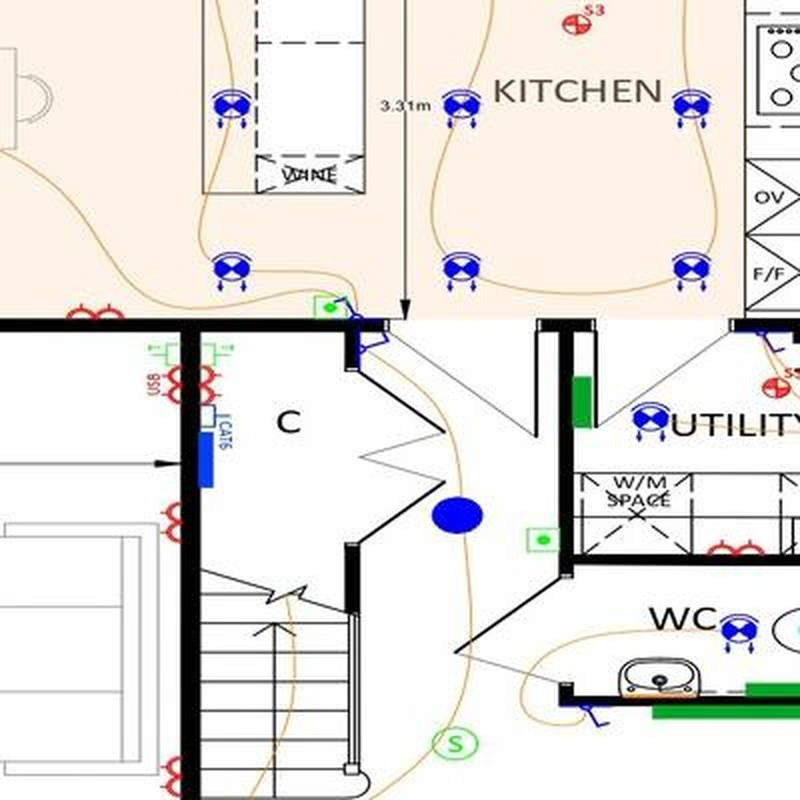Ceiling Mounted Continuous Extract FanWith Local Boost Switch: (561, 4, 604, 37), (761, 364, 800, 398)
Double Socket: (67, 302, 124, 319), (158, 756, 181, 798), (707, 539, 765, 555), (159, 503, 181, 544), (201, 366, 221, 406)
Light Switch: (578, 705, 611, 729), (755, 331, 787, 355), (360, 333, 390, 354), (336, 296, 362, 319)
Low Energy Downlighter: (212, 251, 253, 293), (212, 89, 253, 129), (719, 613, 759, 653), (441, 252, 481, 291), (672, 252, 711, 292), (672, 90, 712, 128), (442, 91, 481, 129), (632, 403, 670, 441)
Low Energy Pendant Light: (431, 499, 484, 535)
Mains Wired Smoke Detector: (432, 728, 479, 759)
Programmable Room Thermostat: (527, 528, 559, 553), (313, 295, 347, 317)
Radiator: (652, 707, 800, 720), (572, 375, 593, 430), (745, 682, 800, 696)
Telephone Socket: (200, 342, 234, 367), (147, 342, 180, 367)
Twin LED Strip Light: (198, 432, 214, 488)
USB Double Socket: (146, 369, 180, 408)
